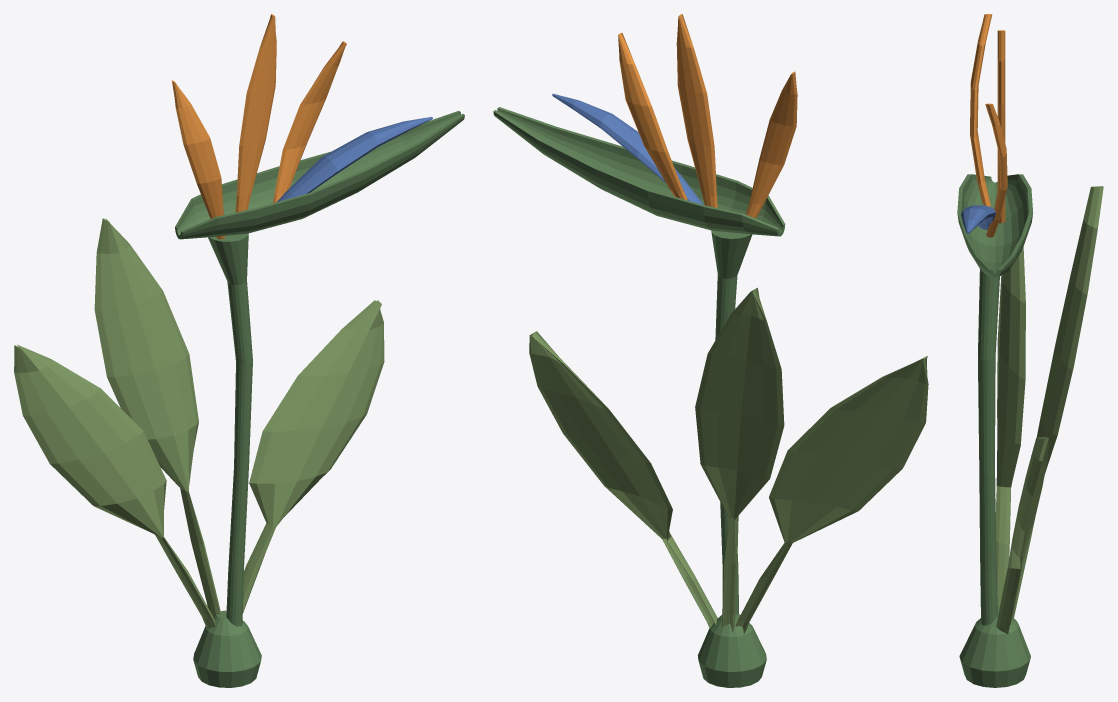
The picture shows the model from 3 angles, left to right: view 1: azimuth 30°, elevation 25°; view 2: azimuth 150°, elevation 25°; view 3: azimuth 270°, elevation 25°; orthographic projection. The views are drawn at different scales.
Parts seen in each view (by area): view 1: WholeLongPetioleAndEllipticalKeeledBlade2, WholeLongPetioleAndEllipticalKeeledBlade0, WholeLongPetioleAndEllipticalKeeledBlade1, WholeLongPointedOpenUpperBoatBract, WholeCurvedIndependentFlowerStalk, WholeUnequalUprightOrangeBanner1, WholeLowCommonFanFlowerCrown, WholeUnequalUprightOrangeBanner0, WholeUnequalUprightOrangeBanner2, WholeForwardPointedBlueFloralForm; view 2: WholeLongPetioleAndEllipticalKeeledBlade0, WholeLongPetioleAndEllipticalKeeledBlade2, WholeLongPointedOpenUpperBoatBract, WholeLongPetioleAndEllipticalKeeledBlade1, WholeUnequalUprightOrangeBanner1, WholeLowCommonFanFlowerCrown, WholeUnequalUprightOrangeBanner0, WholeUnequalUprightOrangeBanner2, WholeCurvedIndependentFlowerStalk, WholeForwardPointedBlueFloralForm; view 3: WholeLongPetioleAndEllipticalKeeledBlade0, WholeCurvedIndependentFlowerStalk, WholeLongPetioleAndEllipticalKeeledBlade2, WholeLongPointedOpenUpperBoatBract, WholeLowCommonFanFlowerCrown, WholeLongPetioleAndEllipticalKeeledBlade1, WholeUnequalUprightOrangeBanner0, WholeUnequalUprightOrangeBanner2, WholeUnequalUprightOrangeBanner1, WholeForwardPointedBlueFloralForm.
Boxes of the visible parts, left/top/right/bottom form: WholeLongPetioleAndEllipticalKeeledBlade2: left=94, top=218, right=220, bottom=616; WholeLongPetioleAndEllipticalKeeledBlade0: left=14, top=344, right=215, bottom=627; WholeLongPetioleAndEllipticalKeeledBlade1: left=243, top=300, right=384, bottom=612; WholeLongPointedOpenUpperBoatBract: left=175, top=111, right=464, bottom=239; WholeCurvedIndependentFlowerStalk: left=208, top=233, right=252, bottom=626; WholeUnequalUprightOrangeBanner1: left=235, top=14, right=276, bottom=212; WholeLowCommonFanFlowerCrown: left=193, top=610, right=261, bottom=687; WholeUnequalUprightOrangeBanner0: left=171, top=80, right=224, bottom=239; WholeUnequalUprightOrangeBanner2: left=273, top=41, right=346, bottom=202; WholeForwardPointedBlueFloralForm: left=276, top=117, right=432, bottom=202; WholeLongPetioleAndEllipticalKeeledBlade0: left=735, top=356, right=928, bottom=633; WholeLongPetioleAndEllipticalKeeledBlade2: left=695, top=287, right=784, bottom=631; WholeLongPointedOpenUpperBoatBract: left=493, top=107, right=785, bottom=236; WholeLongPetioleAndEllipticalKeeledBlade1: left=529, top=331, right=717, bottom=628; WholeUnequalUprightOrangeBanner1: left=676, top=14, right=717, bottom=207; WholeLowCommonFanFlowerCrown: left=697, top=613, right=766, bottom=687; WholeUnequalUprightOrangeBanner0: left=746, top=71, right=797, bottom=218; WholeUnequalUprightOrangeBanner2: left=618, top=32, right=687, bottom=200; WholeCurvedIndependentFlowerStalk: left=711, top=230, right=752, bottom=614; WholeForwardPointedBlueFloralForm: left=552, top=93, right=703, bottom=204; WholeLongPetioleAndEllipticalKeeledBlade0: left=995, top=246, right=1025, bottom=608; WholeCurvedIndependentFlowerStalk: left=978, top=268, right=999, bottom=625; WholeLongPetioleAndEllipticalKeeledBlade2: left=1012, top=186, right=1103, bottom=619; WholeLongPointedOpenUpperBoatBract: left=957, top=174, right=1033, bottom=277; WholeLowCommonFanFlowerCrown: left=959, top=608, right=1030, bottom=687; WholeLongPetioleAndEllipticalKeeledBlade1: left=996, top=437, right=1049, bottom=634; WholeUnequalUprightOrangeBanner0: left=970, top=14, right=992, bottom=206; WholeUnequalUprightOrangeBanner2: left=985, top=103, right=1007, bottom=237; WholeUnequalUprightOrangeBanner1: left=997, top=30, right=1005, bottom=223; WholeForwardPointedBlueFloralForm: left=961, top=205, right=996, bottom=233.
Bounding box in the file's own units: 1.53 × 2.16 × 0.4282.
